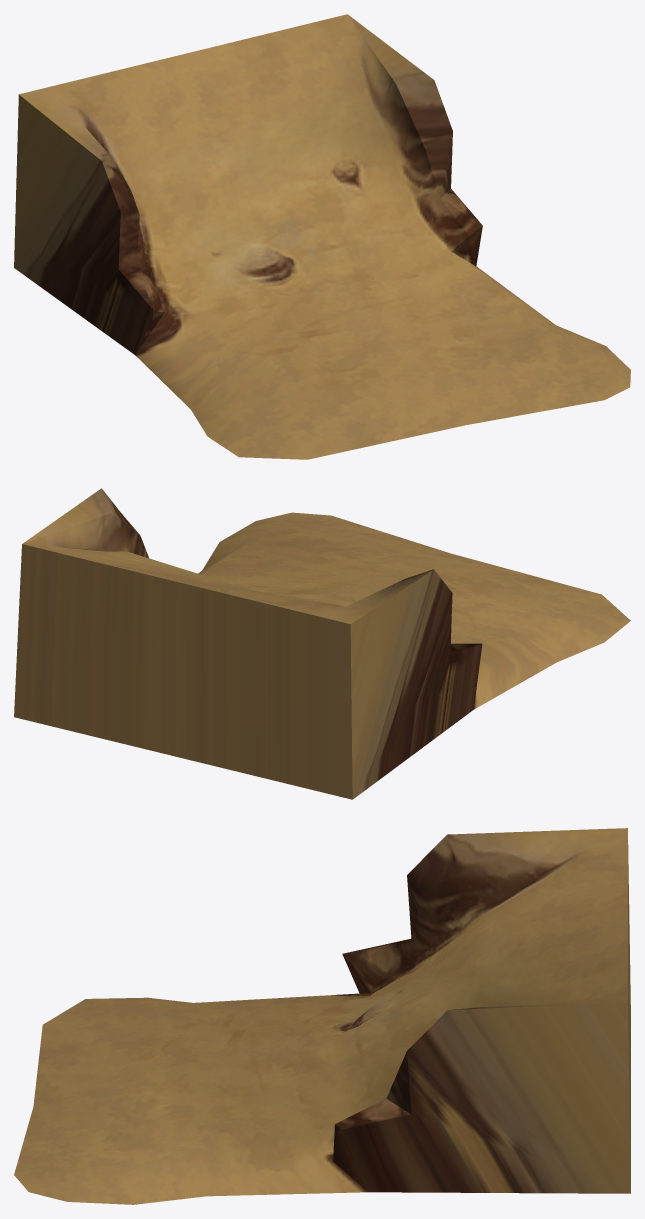
The model's file is nashgar_stair_base2_p1_01_col.FBX.
The picture shows the model from 3 angles, top to bottom: view 1: azimuth 30°, elevation 25°; view 2: azimuth 150°, elevation 25°; view 3: azimuth 270°, elevation 25°; orthographic projection. The views are drawn at different scales.
Parts seen in each view (by area): view 1: nashgar_stair_base2_p1_002; view 2: nashgar_stair_base2_p1_002; view 3: nashgar_stair_base2_p1_002.
Boxes of the visible parts, bbox=[...] form: nashgar_stair_base2_p1_002: bbox=[14, 14, 630, 459]; nashgar_stair_base2_p1_002: bbox=[14, 488, 630, 799]; nashgar_stair_base2_p1_002: bbox=[14, 828, 630, 1204].
Bounding box in the file's own units: 4.81 × 2.04 × 6.05.
